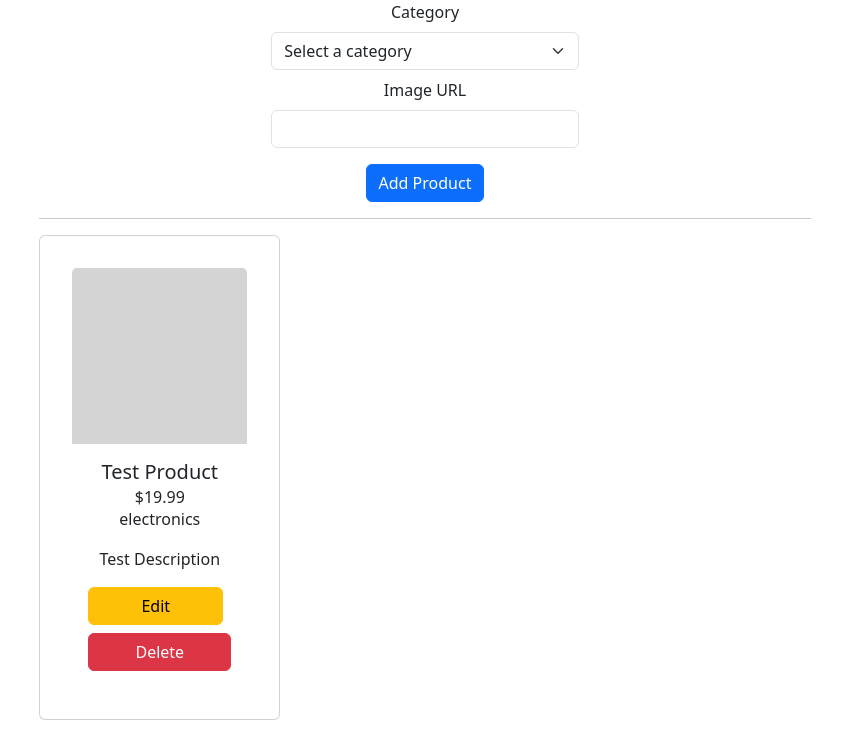
Scenario: ManageProducts - Delete & Edit › deletes a product when Delete button is clicked and confirmed
The width and height of the screenshot is (851, 751).
(page scrolled)
Expected: the text "Test Product" is shown, x1=102 y1=458 x2=218 y2=485
Step 1. Click the button "Delete" → (160, 652), box x1=88 y1=633 x2=231 y2=671
(page scrolled)
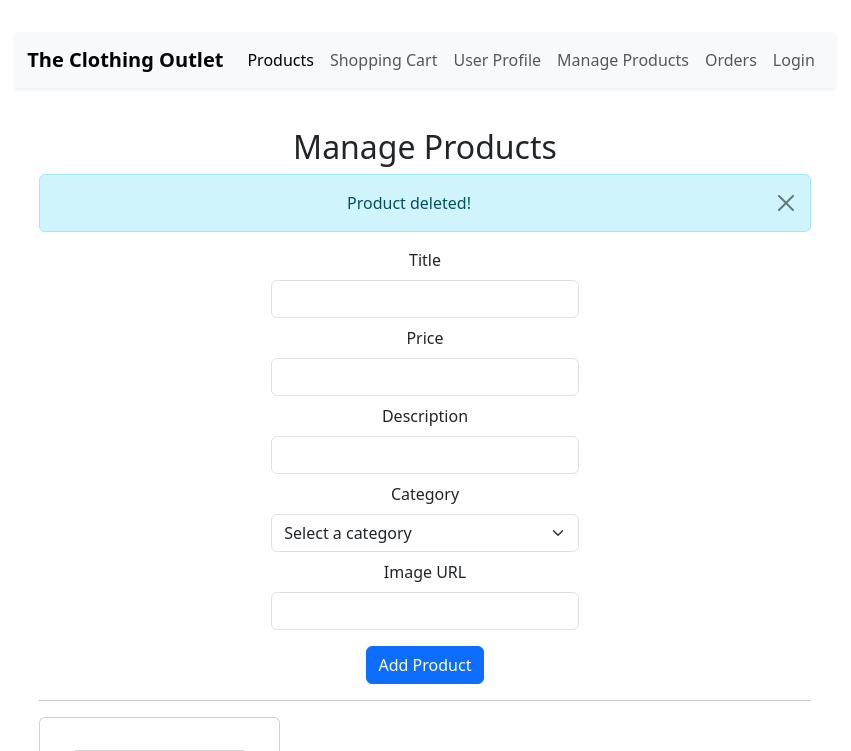
Expected: the text "Product deleted!" is shown, x1=39 y1=174 x2=811 y2=232
